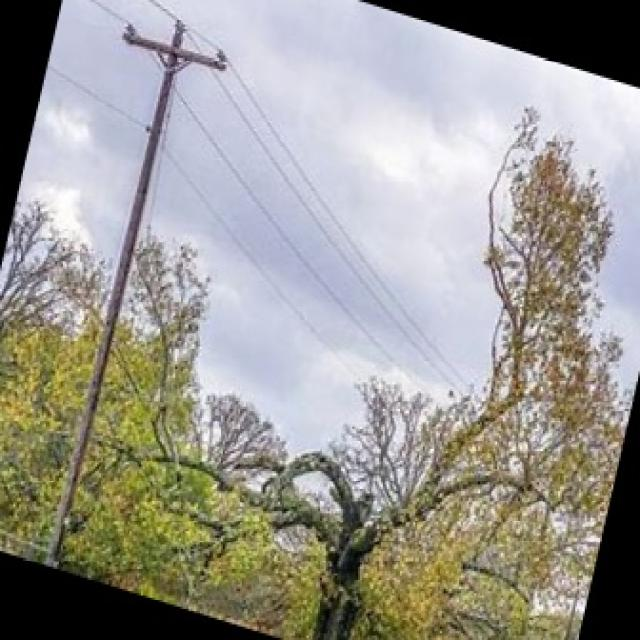utility poles: (57, 11, 237, 574)
